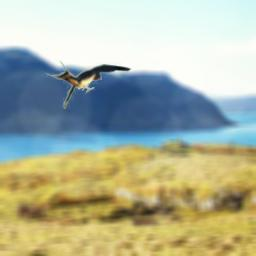Swallow: (38, 60, 133, 109)
